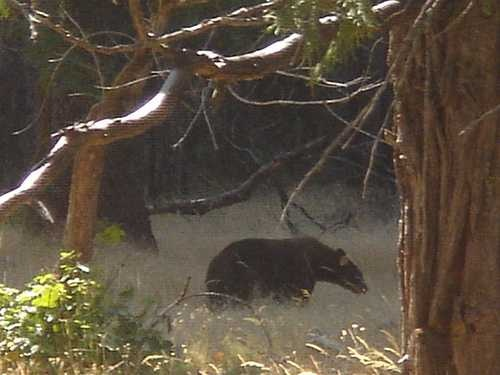bear: (241, 201, 369, 329)
